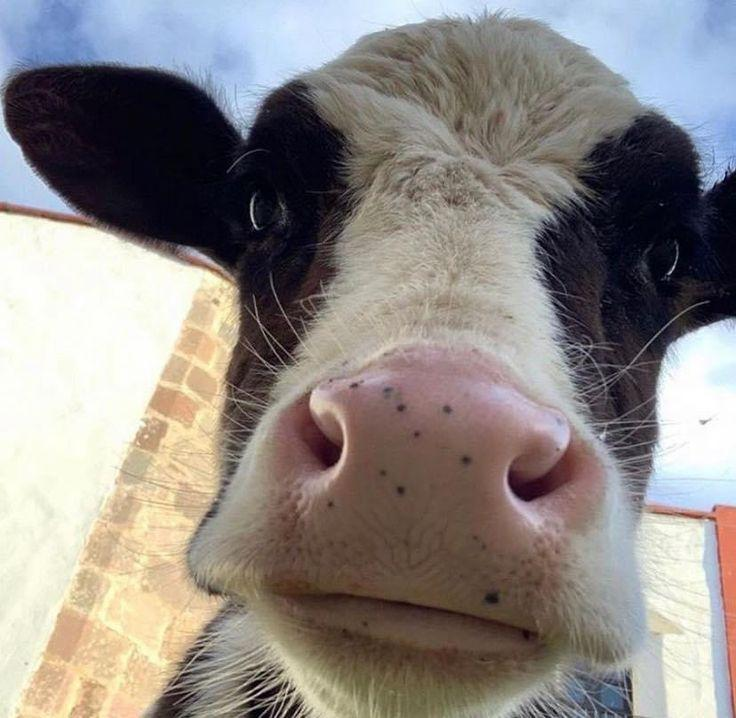cow: (24, 10, 724, 662)
